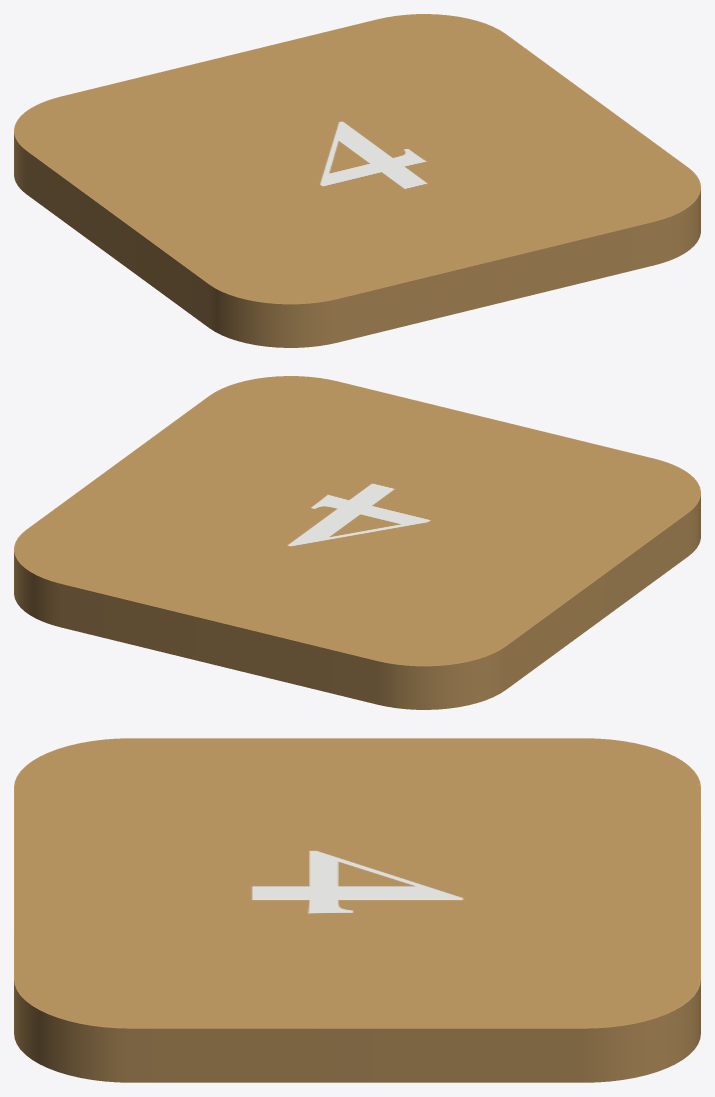
The picture shows the model from 3 angles, top to bottom: view 1: azimuth 30°, elevation 25°; view 2: azimuth 150°, elevation 25°; view 3: azimuth 270°, elevation 25°; orthographic projection. The views are drawn at different scales.
Parts seen in each view (by area): view 1: sq_4; view 2: sq_4; view 3: sq_4.
Boxes of the visible parts, x1,y1,x2,y2 form: sq_4: [14, 14, 700, 347]; sq_4: [14, 376, 700, 709]; sq_4: [14, 738, 700, 1082].
Bounding box in the file's own units: 0.0276 × 0.0024 × 0.0276.
3 materials, 2 textured.
